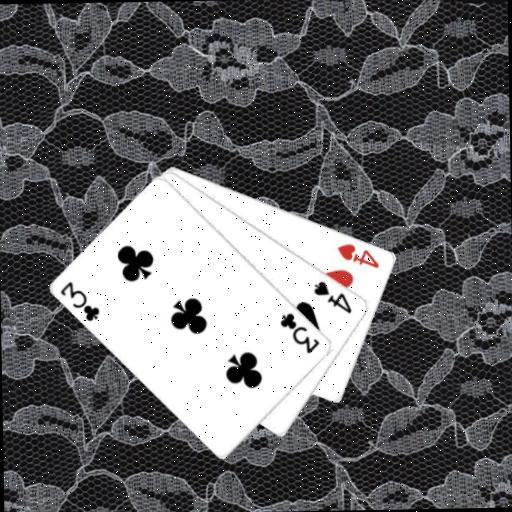3C: (277, 309, 322, 356), (58, 277, 103, 324)
4H: (335, 239, 382, 270)
4S: (311, 277, 354, 315)
